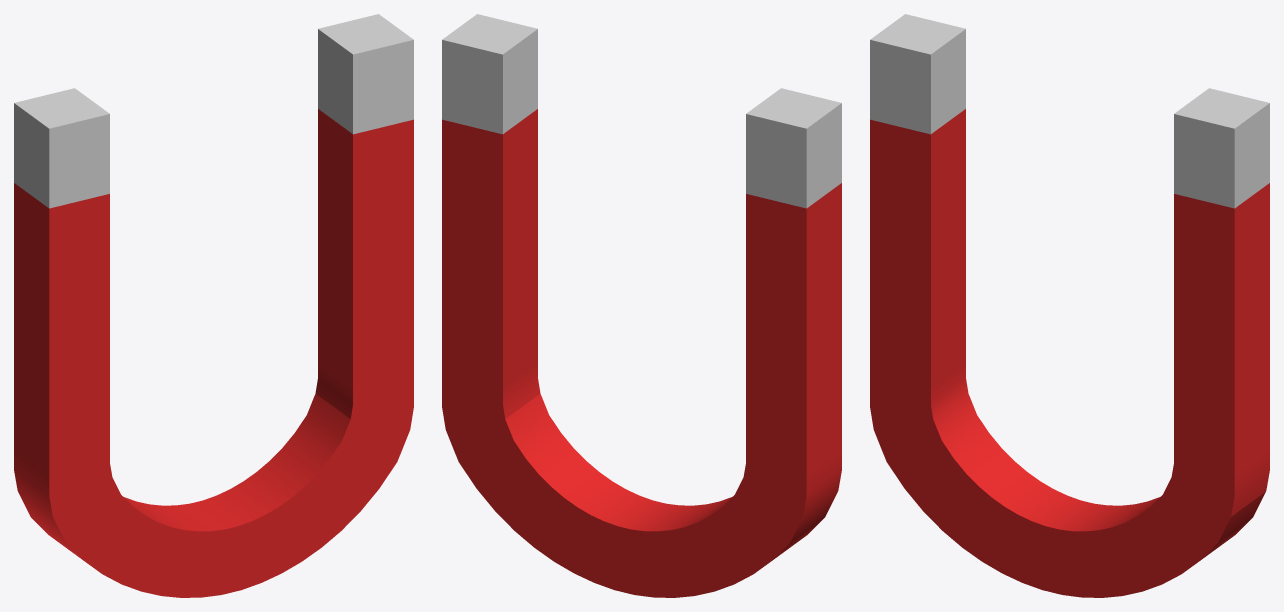
File: magnet.glb
3 renders of one model, left to right at view 1: azimuth 30°, elevation 25°; view 2: azimuth 150°, elevation 25°; view 3: azimuth 330°, elevation 25°, orthographic.
Visible parts, largest first — view 1: U magnet; view 2: U magnet; view 3: U magnet.
Boxes of the visible parts, x1,y1,x2,y2 form: U magnet: (14,14,413,597); U magnet: (442,14,841,597); U magnet: (870,14,1269,597).
Size of the model in its own units: 5.98 by 7.96 by 1.
